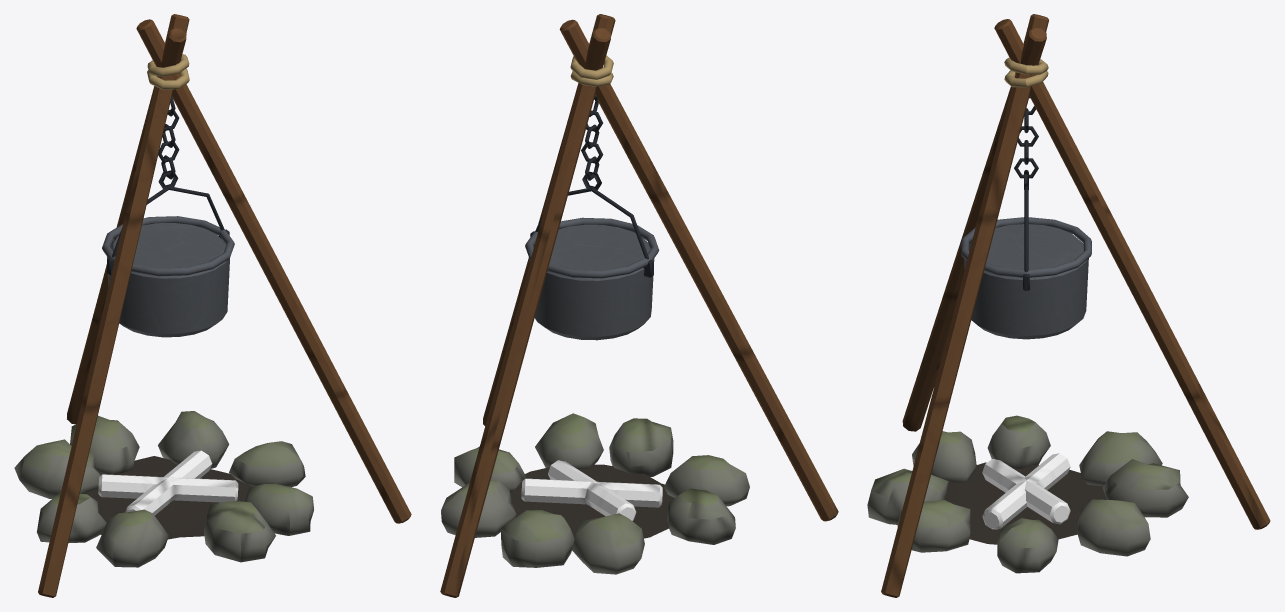
The model's file is cooking_tripod.glb.
3 renders of one model, left to right at view 1: azimuth 30°, elevation 25°; view 2: azimuth 150°, elevation 25°; view 3: azimuth 270°, elevation 25°, orthographic.
Visible parts, largest first — view 1: cooking_tripod; view 2: cooking_tripod; view 3: cooking_tripod.
Boxes of the visible parts, box(x1,y1,x2,y2) form: cooking_tripod: box(14, 14, 411, 597); cooking_tripod: box(440, 14, 838, 597); cooking_tripod: box(867, 14, 1270, 597).
Size of the model in its own units: 1.2 by 1.56 by 1.15.
9 materials, 9 textured.
